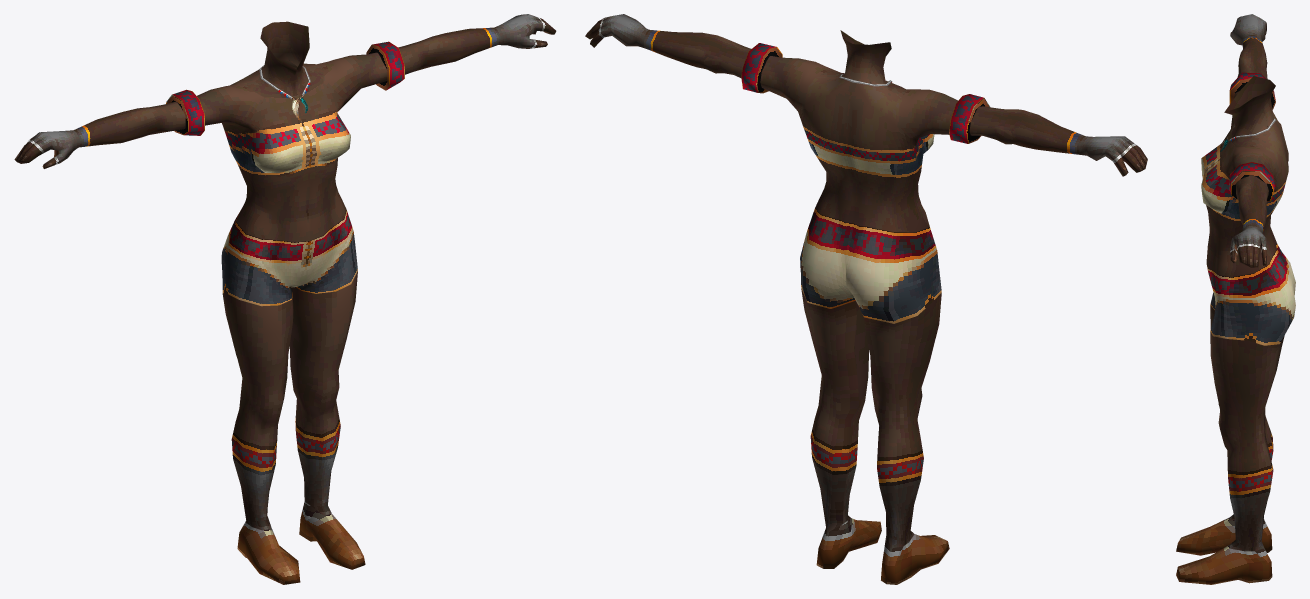
The model's file is f_body023.obj.
3 views of the same model, side by side, from view 1: azimuth 30°, elevation 25°; view 2: azimuth 150°, elevation 25°; view 3: azimuth 270°, elevation 25° (orthographic). The views are drawn at different scales.
Parts seen in each view (by area): view 1: editpl_f-0000-35, editpl_f-0000-34, editpl_f-0000-33; view 2: editpl_f-0000-35, editpl_f-0000-34, editpl_f-0000-33; view 3: editpl_f-0000-35, editpl_f-0000-34, editpl_f-0000-33.
Boxes of the visible parts, x1,y1,x2,y2 form: editpl_f-0000-35: [221, 210, 365, 584]; editpl_f-0000-34: [197, 21, 387, 242]; editpl_f-0000-33: [14, 14, 556, 168]; editpl_f-0000-35: [800, 208, 949, 584]; editpl_f-0000-34: [760, 30, 957, 232]; editpl_f-0000-33: [585, 14, 1147, 176]; editpl_f-0000-35: [1176, 244, 1295, 584]; editpl_f-0000-34: [1201, 76, 1288, 277]; editpl_f-0000-33: [1229, 14, 1275, 267].
Size of the model in its own units: 173 by 159 by 36.08.
Materials: 3 (3 with a texture image).
